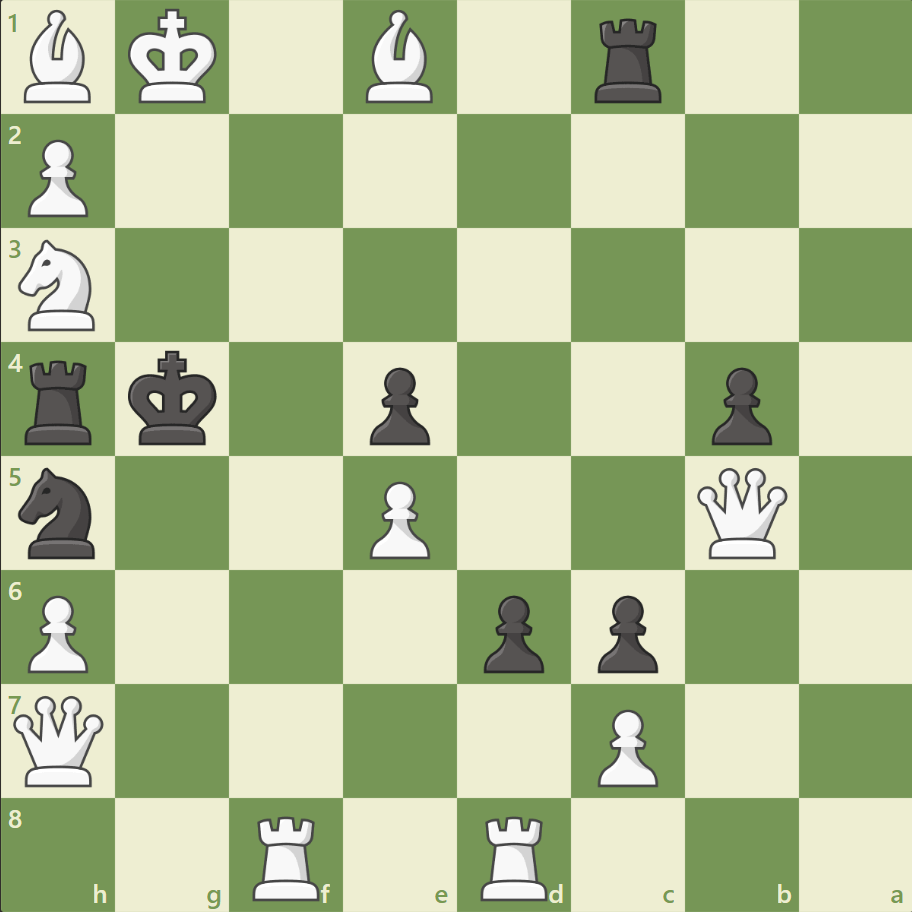B: (358, 6, 442, 109), (17, 6, 101, 109)
K: (124, 4, 224, 112)
N: (11, 234, 108, 337)
P: (20, 586, 95, 677), (20, 132, 95, 223), (588, 700, 662, 791), (361, 473, 435, 564)
Q: (10, 690, 109, 789), (691, 463, 790, 562)
R: (473, 806, 556, 904), (246, 806, 329, 904)
k: (124, 344, 224, 452)
n: (11, 461, 108, 564)
p: (474, 586, 549, 677), (701, 359, 776, 450), (588, 586, 662, 677), (361, 359, 435, 450)
r: (19, 352, 102, 449), (587, 12, 670, 109)
